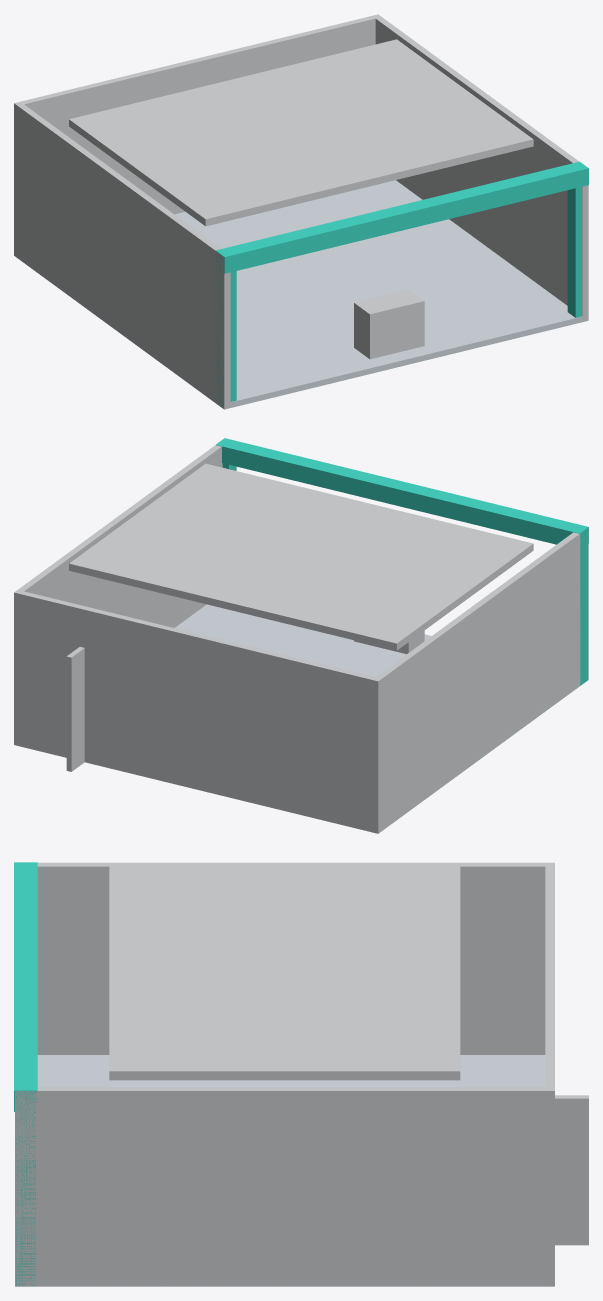
3 renders of one model, top to bottom at view 1: azimuth 30°, elevation 25°; view 2: azimuth 150°, elevation 25°; view 3: azimuth 270°, elevation 25°, orthographic. The views are drawn at different scales.
Parts seen in each view (by area): view 1: Exhibition Booth Concept; view 2: Exhibition Booth Concept; view 3: Exhibition Booth Concept.
Part boxes in pixels (x1,y1,x2,y2): Exhibition Booth Concept: (14, 14, 588, 409); Exhibition Booth Concept: (14, 438, 588, 833); Exhibition Booth Concept: (14, 862, 588, 1286).
Bounding box in the file's own units: 8 × 3.34 × 8.52.
